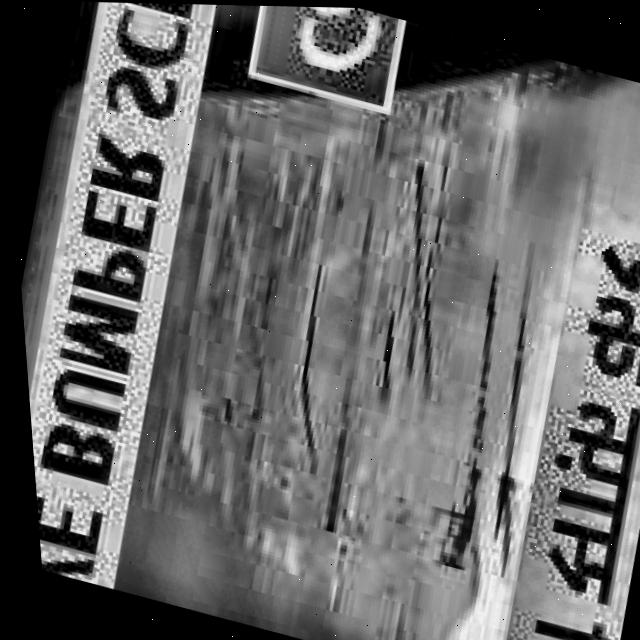bumper_scratch: (95, 85, 607, 620)
